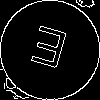E: (25, 25, 70, 78)
